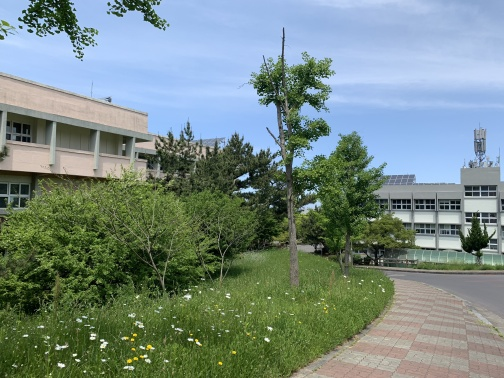College Of Education: (1, 73, 233, 246)
